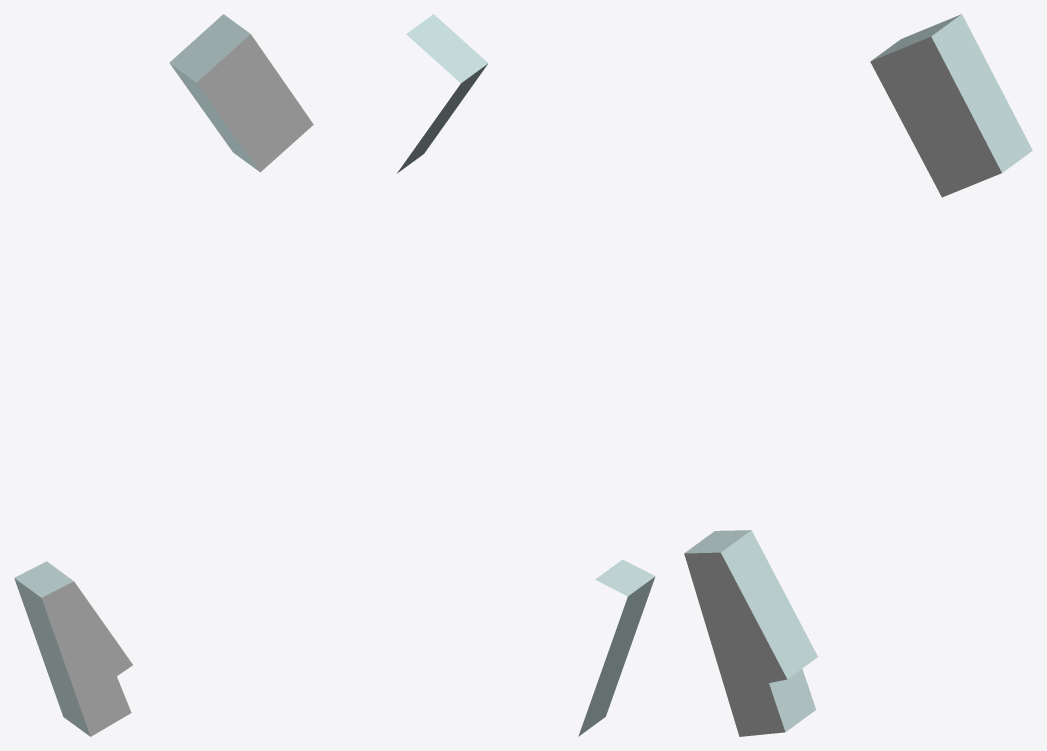
3 views of the same model, side by side, from view 1: azimuth 30°, elevation 25°; view 2: azimuth 150°, elevation 25°; view 3: azimuth 330°, elevation 25° (orthographic). The views are drawn at different scales.
Visible parts, largest first — view 1: 0_1_2_1_0_1_2_2_3; view 2: 0_1_2_1_0_1_2_2_3; view 3: 0_1_2_1_0_1_2_2_3.
Part boxes in pixels (<box>): 0_1_2_1_0_1_2_2_3: <box>14,14,313,736</box>; 0_1_2_1_0_1_2_2_3: <box>397,14,655,736</box>; 0_1_2_1_0_1_2_2_3: <box>684,14,1032,736</box>.
Bounding box in the file's own units: 17.59 × 39.91 × 3.56.
